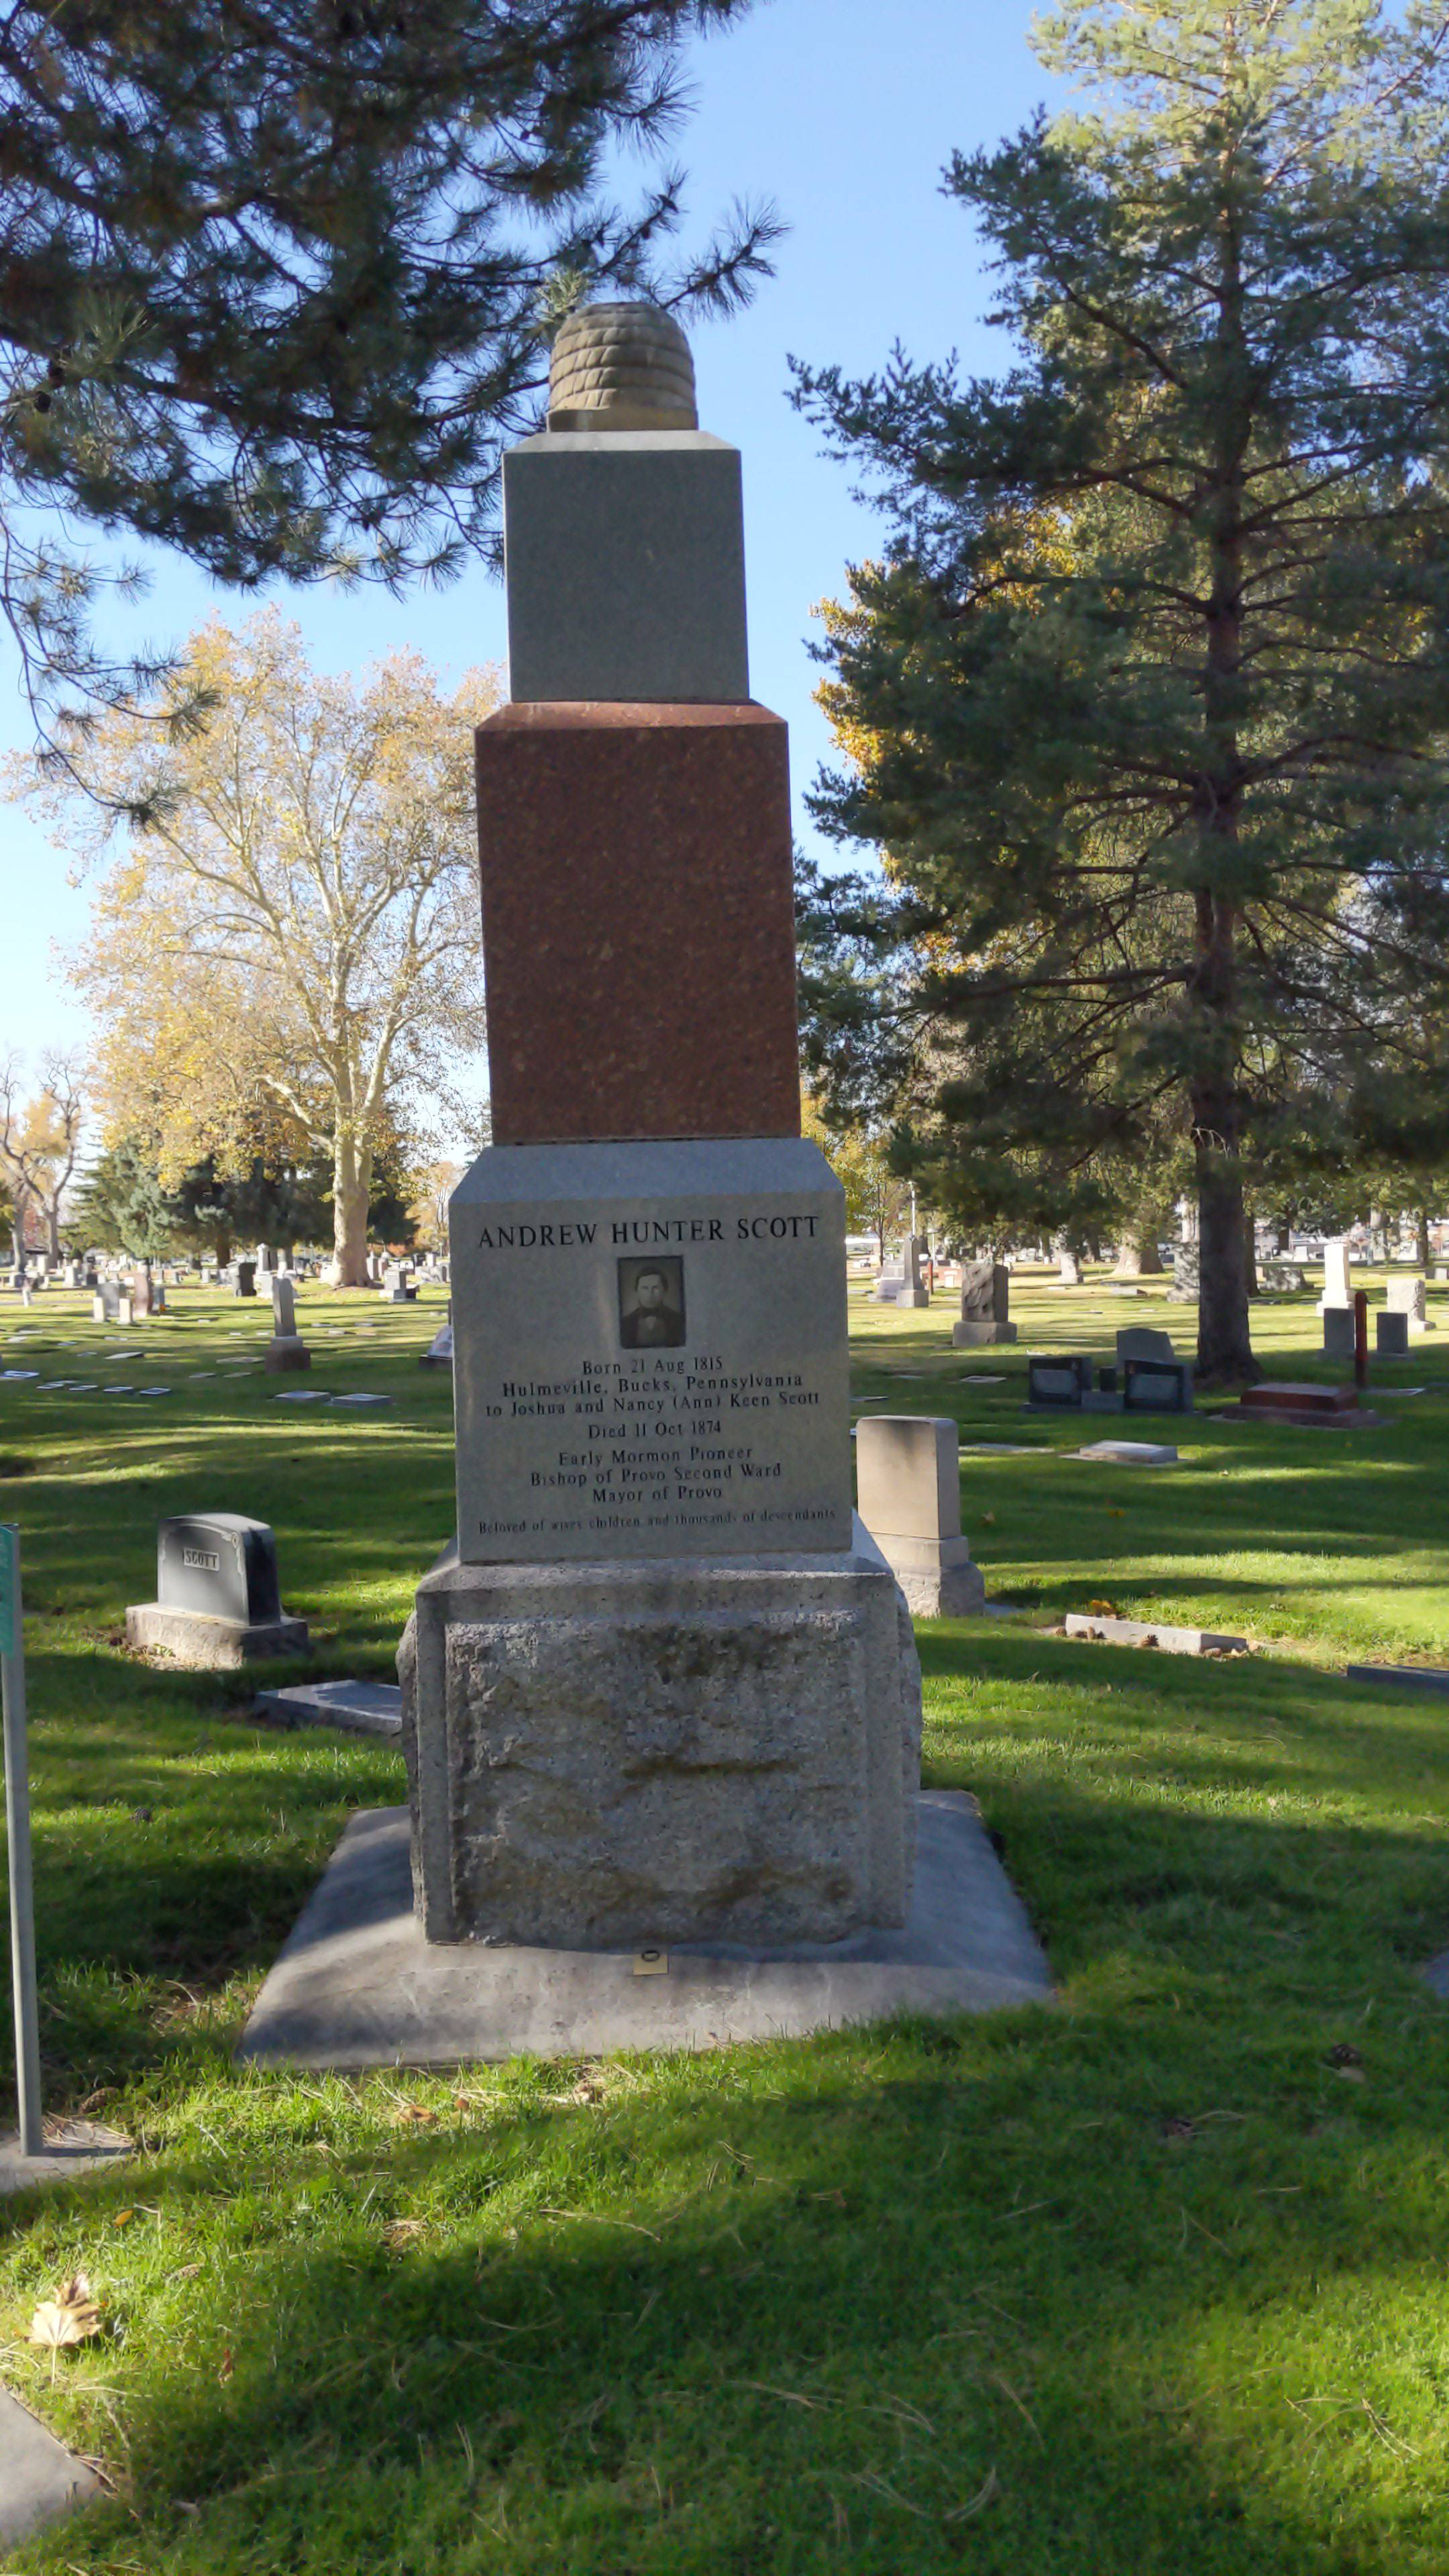obelisk: (418, 308, 908, 1967)
